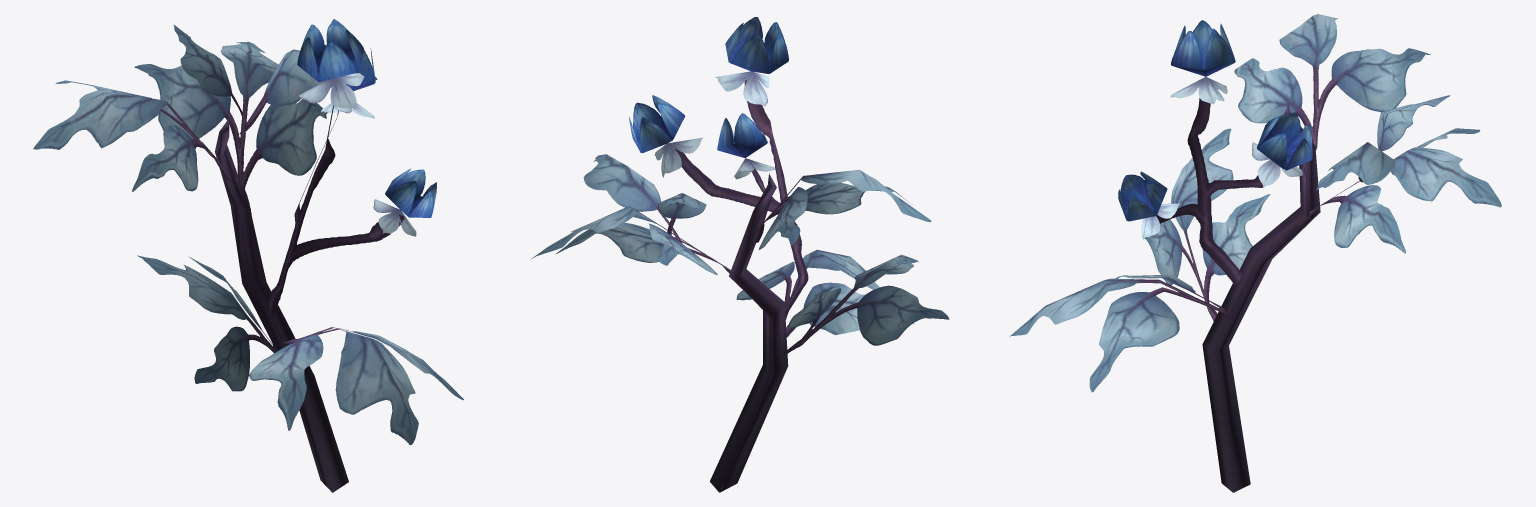
The model's file is 6sm_flowerbush_a01.obj.
3 views of the same model, side by side, from view 1: azimuth 30°, elevation 25°; view 2: azimuth 150°, elevation 25°; view 3: azimuth 270°, elevation 25° (orthographic). The views are drawn at different scales.
Visible parts, largest first — view 1: 6SM_FLOWERBUSH_A011, 6SM_FLOWERBUSH_A010; view 2: 6SM_FLOWERBUSH_A011, 6SM_FLOWERBUSH_A010; view 3: 6SM_FLOWERBUSH_A011, 6SM_FLOWERBUSH_A010.
Part boxes in pixels (left/top/right/bottom): 6SM_FLOWERBUSH_A011: left=33, top=19, right=463, bottom=445; 6SM_FLOWERBUSH_A010: left=215, top=118, right=348, bottom=492; 6SM_FLOWERBUSH_A011: left=531, top=17, right=949, bottom=355; 6SM_FLOWERBUSH_A010: left=710, top=173, right=788, bottom=492; 6SM_FLOWERBUSH_A011: left=1009, top=14, right=1501, bottom=392; 6SM_FLOWERBUSH_A010: left=1202, top=105, right=1320, bottom=492.
Bounding box in the file's own units: 2.91 × 3.54 × 3.7.
Materials: 1 (1 with a texture image).
